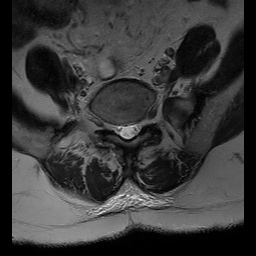CCS_stenosis: (124, 115, 131, 146)
LFS_normal: (139, 111, 147, 136)
LLS_normal: (131, 115, 139, 142)
RFS_stenosis: (108, 114, 117, 138)
RLS_normal: (117, 117, 124, 142)
